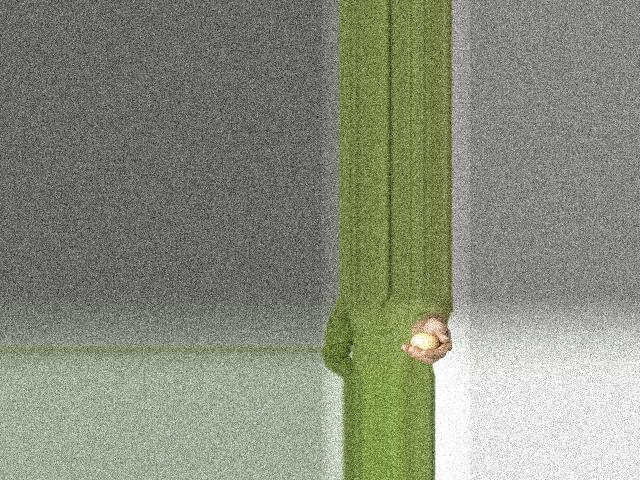egg: (409, 333, 438, 350)
